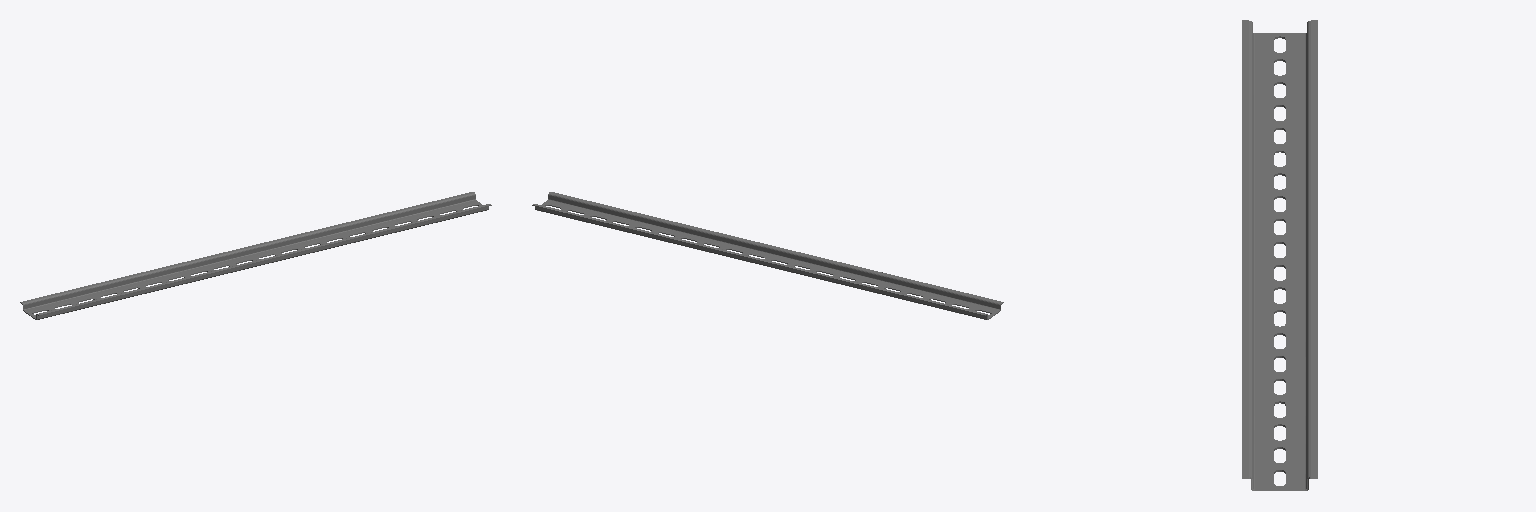
robot.urdf — rail.urdf:
<?xml version="0.0" ?>
<robot name="rail.urdf">
  <link name="baseLink">
    <contact>
      <lateral_friction value=".5"/>
    </contact>
    <inertial>
      <origin rpy="0 0 0" xyz="0 0 0"/>
       <mass value=".05"/>
       <inertia ixx="1" ixy="0" ixz="0" iyy="1" iyz="0" izz="1"/>
    </inertial>
    <visual>
      <origin rpy="0 0 0" xyz="0 0 0"/>
      <geometry>
		<mesh filename="Rail.obj" scale="1 1 1"/>
      </geometry>
       <material name="gray">
        <color rgba="0.5 0.5 0.5 1"/>
      </material>
    </visual>
    <collision>
      <origin rpy="0 0 0" xyz="0 0 0"/>
      <geometry>
	 	<mesh filename="Rail_Coll.obj" scale="1 1 1"/>
      </geometry>
    </collision>
  </link>
</robot>

--- Facts derived from the render (not from the file) ---
The picture shows the robot from 3 angles, left to right: view 1: azimuth 30°, elevation 25°; view 2: azimuth 150°, elevation 25°; view 3: azimuth 270°, elevation 25°; orthographic projection.
Robot: rail.urdf — 1 links, 0 joints (none); root link baseLink; default pose: all joints at 0.
Links seen in each view (by area): view 1: baseLink; view 2: baseLink; view 3: baseLink.
Boxes of the visible links, x1=… form: baseLink: x1=20, y1=192, x2=491, y2=319; baseLink: x1=532, y1=192, x2=1003, y2=319; baseLink: x1=1242, y1=20, x2=1317, y2=490.
Bounding box of the posed robot: 0.5001 × 0.035 × 0.0075 m (x, y, z).
1 mesh visuals loaded from 1 distinct referenced files (1 OBJ).